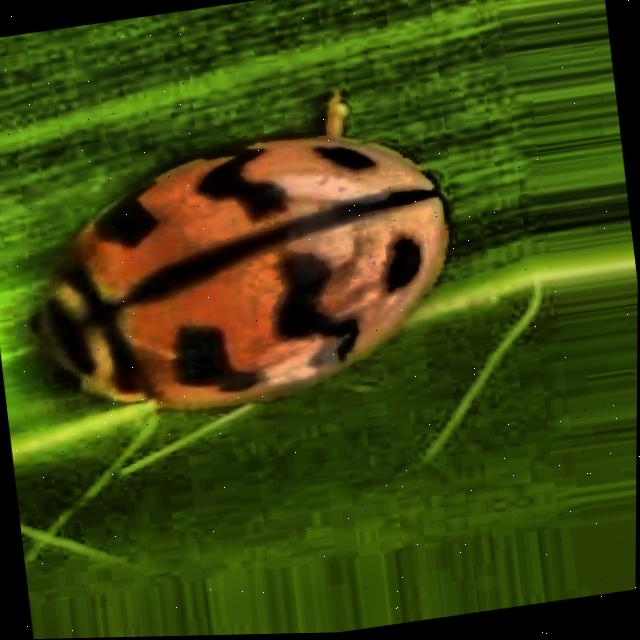Asian-Lady-beetle: (0, 59, 525, 487)
